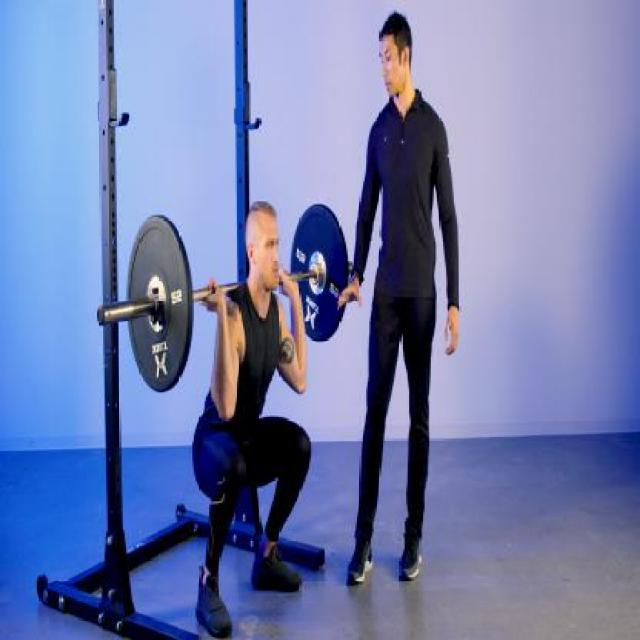Barbell: (92, 295, 111, 334)
